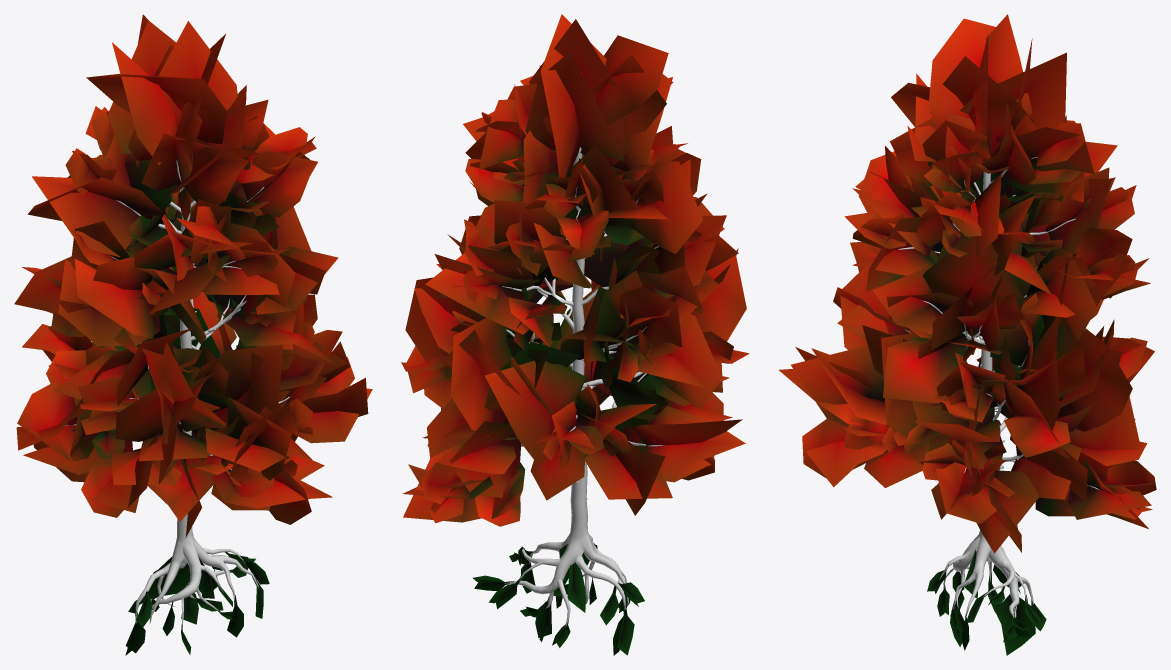
The model's file is ShrubTree_D.fbx.
The picture shows the model from 3 angles, left to right: view 1: azimuth 30°, elevation 25°; view 2: azimuth 150°, elevation 25°; view 3: azimuth 270°, elevation 25°; orthographic projection. The views are drawn at different scales.
Visible parts, largest first — view 1: ShrubTree_D_Leaves_LOD0, ShrubTree_D_Bark_LOD0, ShrubTree_D_Roots_LOD0; view 2: ShrubTree_D_Leaves_LOD0, ShrubTree_D_Bark_LOD0, ShrubTree_D_Roots_LOD0; view 3: ShrubTree_D_Leaves_LOD0, ShrubTree_D_Roots_LOD0, ShrubTree_D_Bark_LOD0.
Part boxes in pixels (x1=…): ShrubTree_D_Leaves_LOD0: x1=14, y1=14, x2=372, y2=537; ShrubTree_D_Bark_LOD0: x1=65, y1=160, x2=289, y2=630; ShrubTree_D_Roots_LOD0: x1=125, y1=552, x2=269, y2=655; ShrubTree_D_Leaves_LOD0: x1=401, y1=14, x2=749, y2=526; ShrubTree_D_Bark_LOD0: x1=502, y1=147, x2=664, y2=627; ShrubTree_D_Roots_LOD0: x1=473, y1=543, x2=644, y2=655; ShrubTree_D_Leaves_LOD0: x1=779, y1=14, x2=1156, y2=553; ShrubTree_D_Roots_LOD0: x1=927, y1=549, x2=1046, y2=655; ShrubTree_D_Bark_LOD0: x1=898, y1=157, x2=1098, y2=620.
Size of what is drawn, in the model's own units: 10.95 by 19.31 by 10.86.
